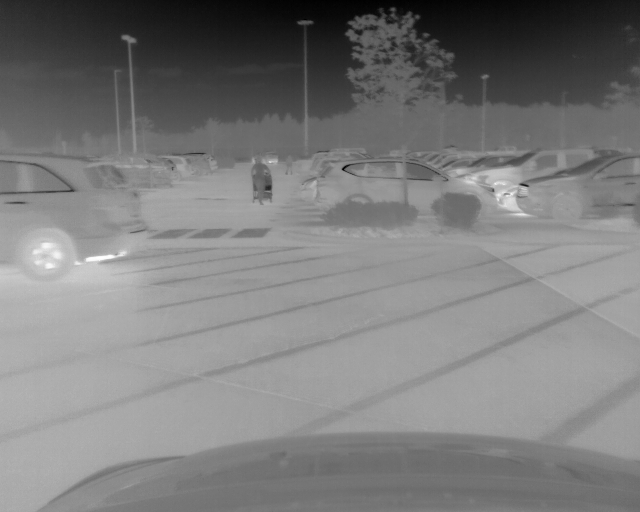car: (1, 153, 150, 280), (315, 158, 499, 227), (463, 147, 601, 212), (517, 152, 640, 223), (161, 155, 194, 182), (190, 151, 219, 176), (251, 153, 279, 165)
people: (249, 157, 272, 205), (284, 155, 294, 175)
